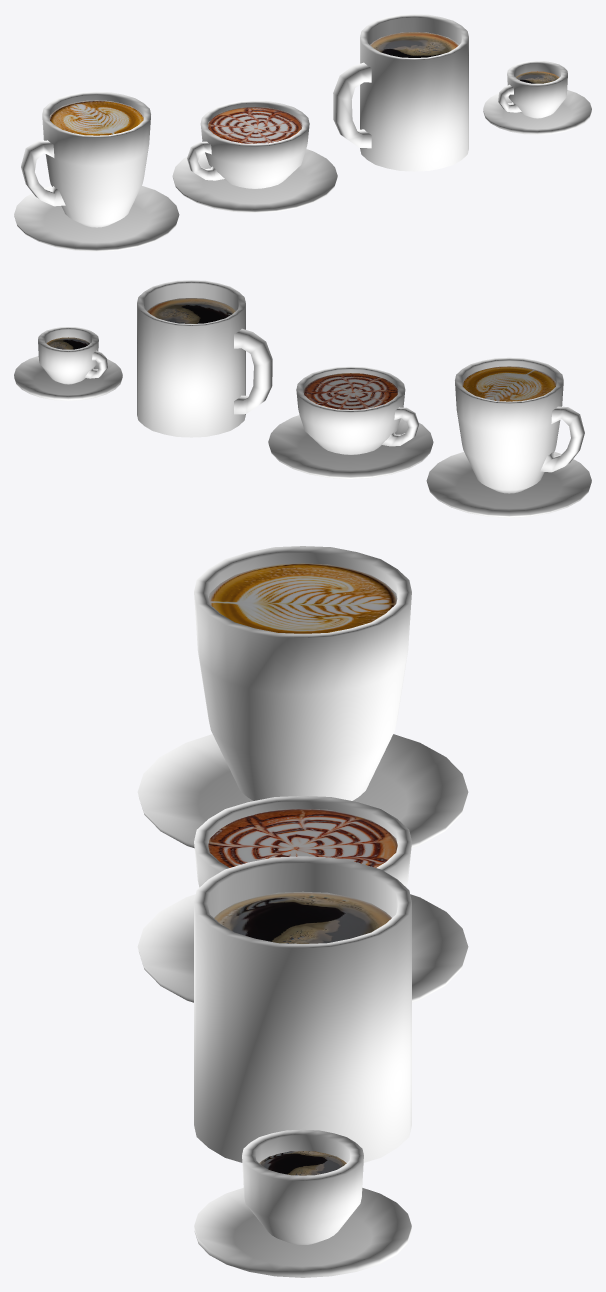
Rendered from coffee_cups_low_poly.obj.
3 views of the same model, one above another, from view 1: azimuth 30°, elevation 25°; view 2: azimuth 150°, elevation 25°; view 3: azimuth 270°, elevation 25° (orthographic). The views are drawn at different scales.
Parts seen in each view (by area): view 1: obj5, obj6, obj3, obj7, obj1, obj4, obj11, obj2, obj10, obj9, obj8; view 2: obj5, obj6, obj3, obj7, obj1, obj4, obj11, obj2, obj10, obj9, obj8; view 3: obj5, obj6, obj3, obj2, obj10, obj4, obj1, obj11, obj9, obj7, obj8.
Part boxes in pixels (x1,y1,x2,y2): obj5: (333, 14, 468, 171); obj6: (21, 91, 150, 227); obj3: (14, 185, 179, 251); obj7: (187, 100, 309, 188); obj1: (172, 149, 337, 212); obj4: (498, 61, 567, 118); obj11: (207, 107, 302, 143); obj2: (483, 90, 591, 134); obj10: (49, 100, 143, 135); obj9: (370, 32, 458, 57); obj8: (516, 71, 559, 83); obj5: (137, 280, 272, 437); obj6: (455, 357, 584, 493); obj3: (426, 451, 591, 517); obj7: (296, 366, 418, 454); obj1: (268, 415, 433, 478); obj4: (38, 327, 107, 384); obj11: (303, 373, 398, 409); obj2: (14, 356, 122, 400); obj10: (462, 366, 556, 401); obj9: (147, 298, 235, 323); obj8: (46, 337, 89, 349); obj5: (194, 856, 411, 1162); obj6: (194, 546, 411, 800); obj3: (137, 734, 468, 848); obj2: (194, 1188, 411, 1277); obj10: (208, 563, 397, 633); obj4: (242, 1129, 363, 1244); obj1: (137, 894, 468, 1002); obj11: (208, 809, 397, 867); obj9: (214, 891, 391, 943); obj7: (194, 796, 411, 887); obj8: (259, 1151, 346, 1175).
Size of the model in its own units: 0.6822 by 0.1294 by 0.1742.
Materials: 3 (3 with a texture image).
